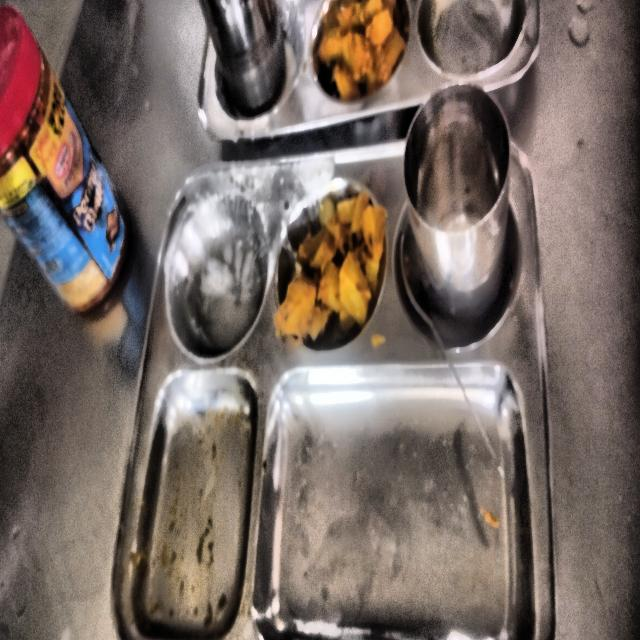Salad-onion: (275, 192, 386, 342)
